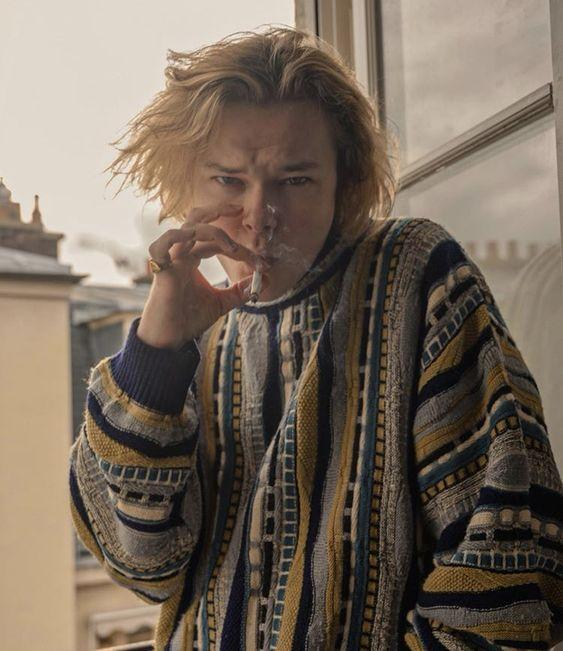cigarette: (250, 269, 263, 304)
